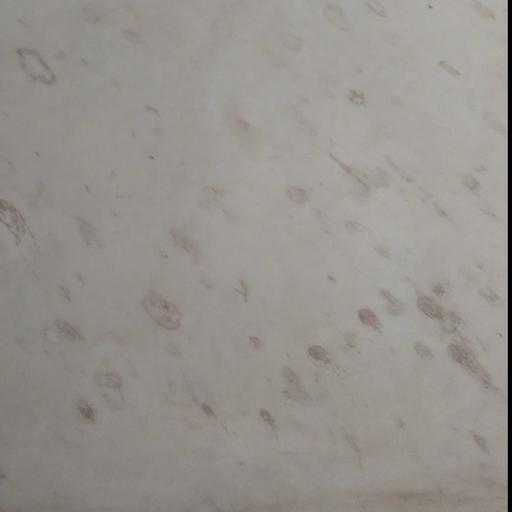stain: (8, 32, 512, 492)
